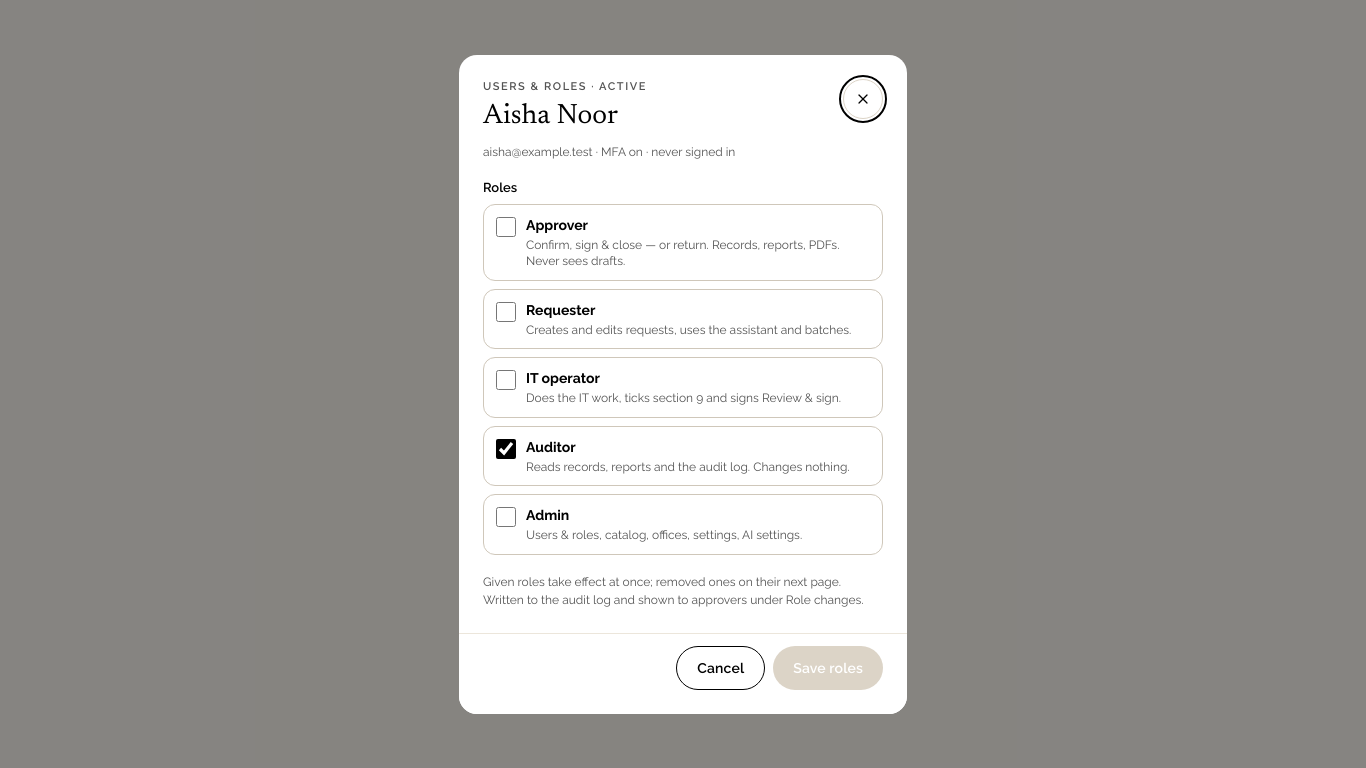
Test: UserSheet (F18b) › a refusal from the server is shown
This screenshot has width=1366, height=768.
Step 1. Click the checkbox labelled "Admin" → (506, 517), box left=496, top=507, right=516, bottom=527
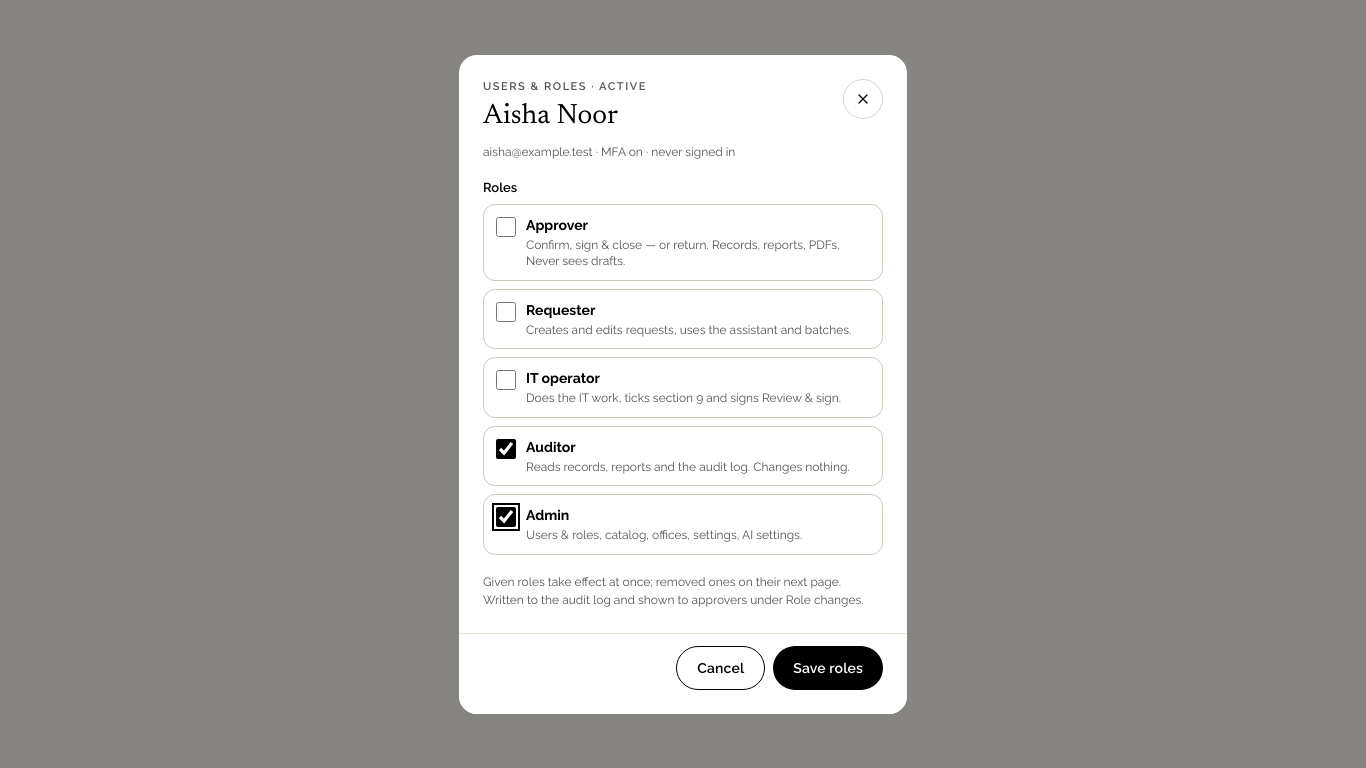
Step 2. Click the button "Save roles" → (828, 668), box left=773, top=646, right=883, bottom=690
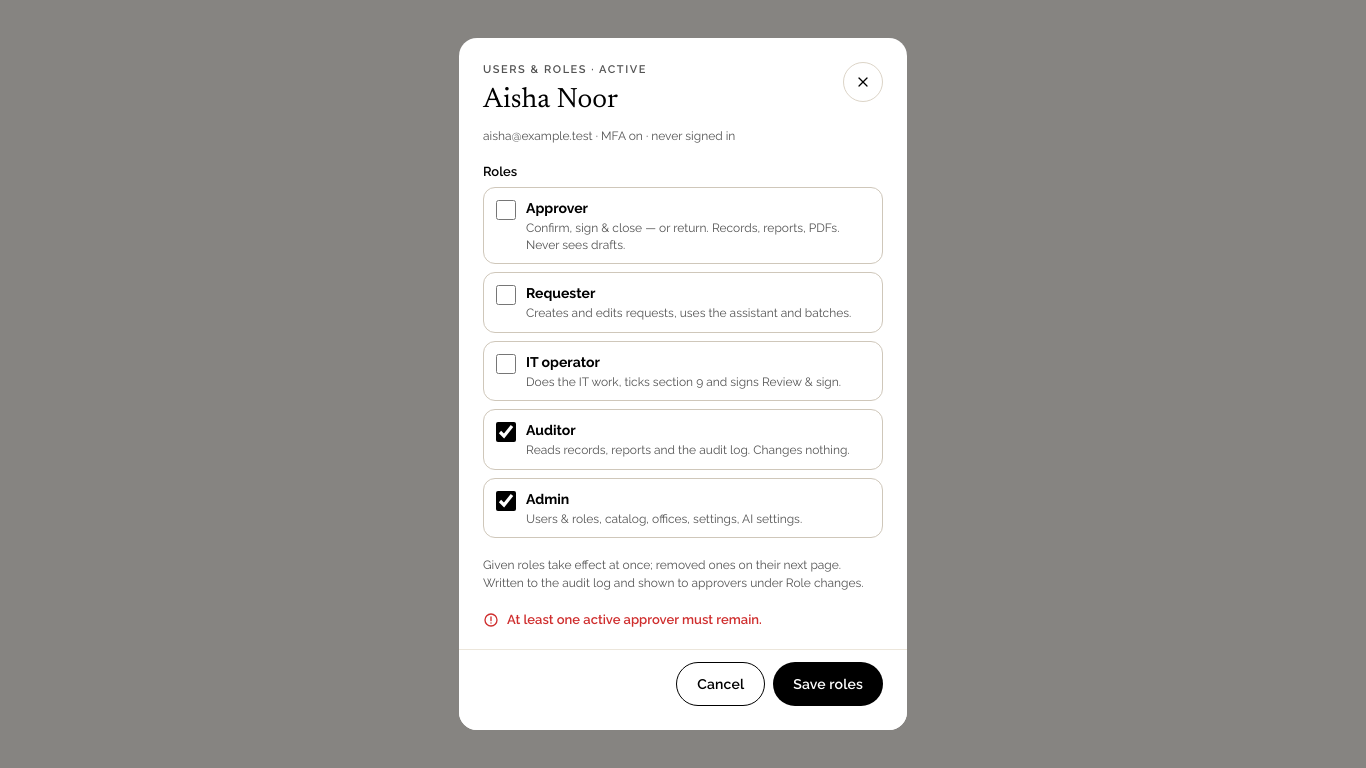
Expected: the text "At least one active approver must remain." is shown, left=507, top=610, right=762, bottom=630
